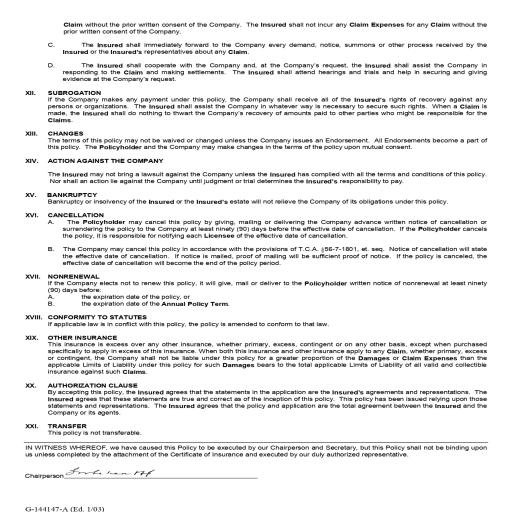Signature: (23, 469, 66, 484)
